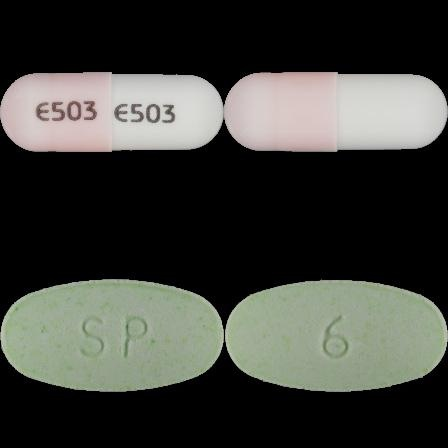42806-503: (0, 0, 224, 224)
